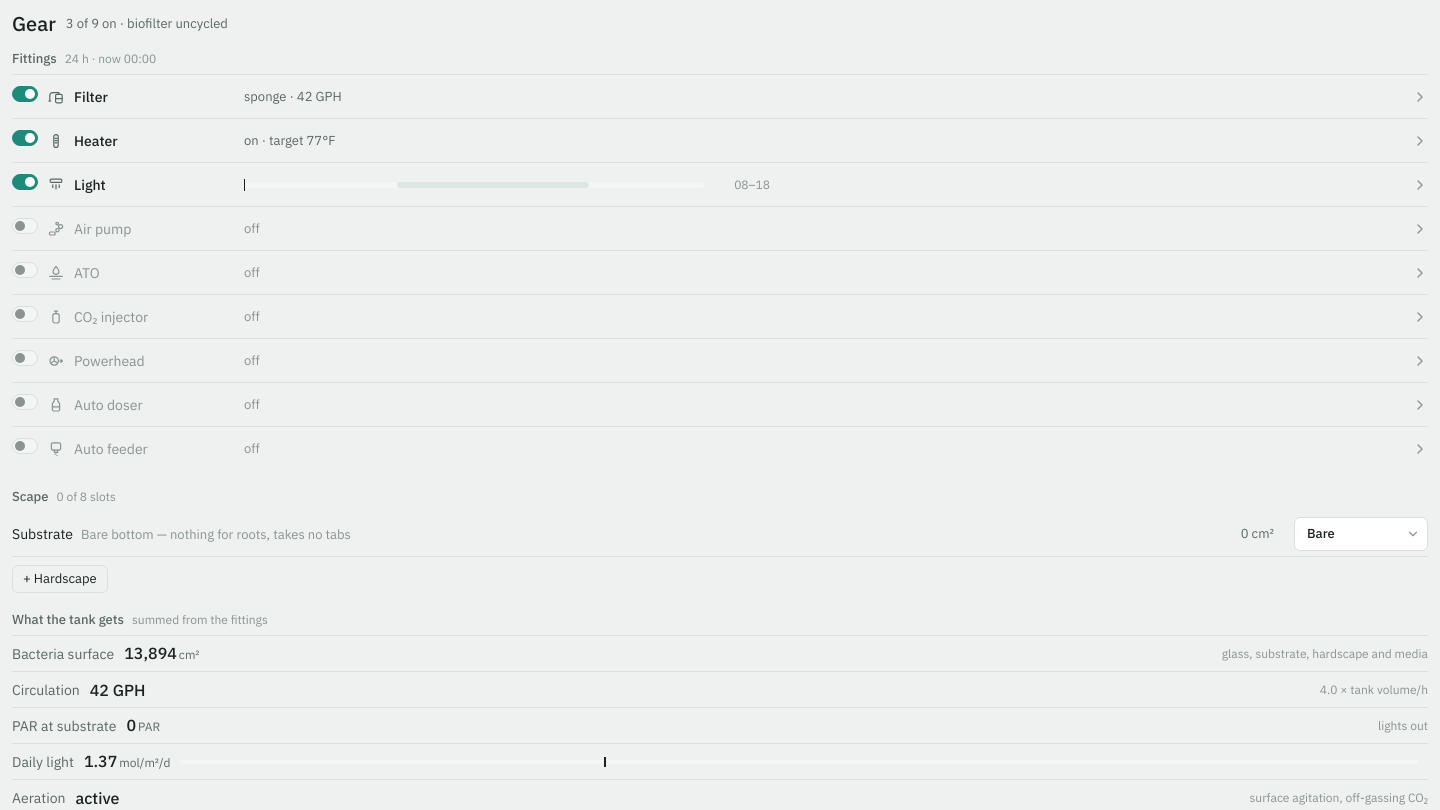
Test: GearSection › opens the day’s light on the reading behind it
Click the button "Daily light 1.37mol/m²/d" at (720, 761), box [12,743,1428,779]
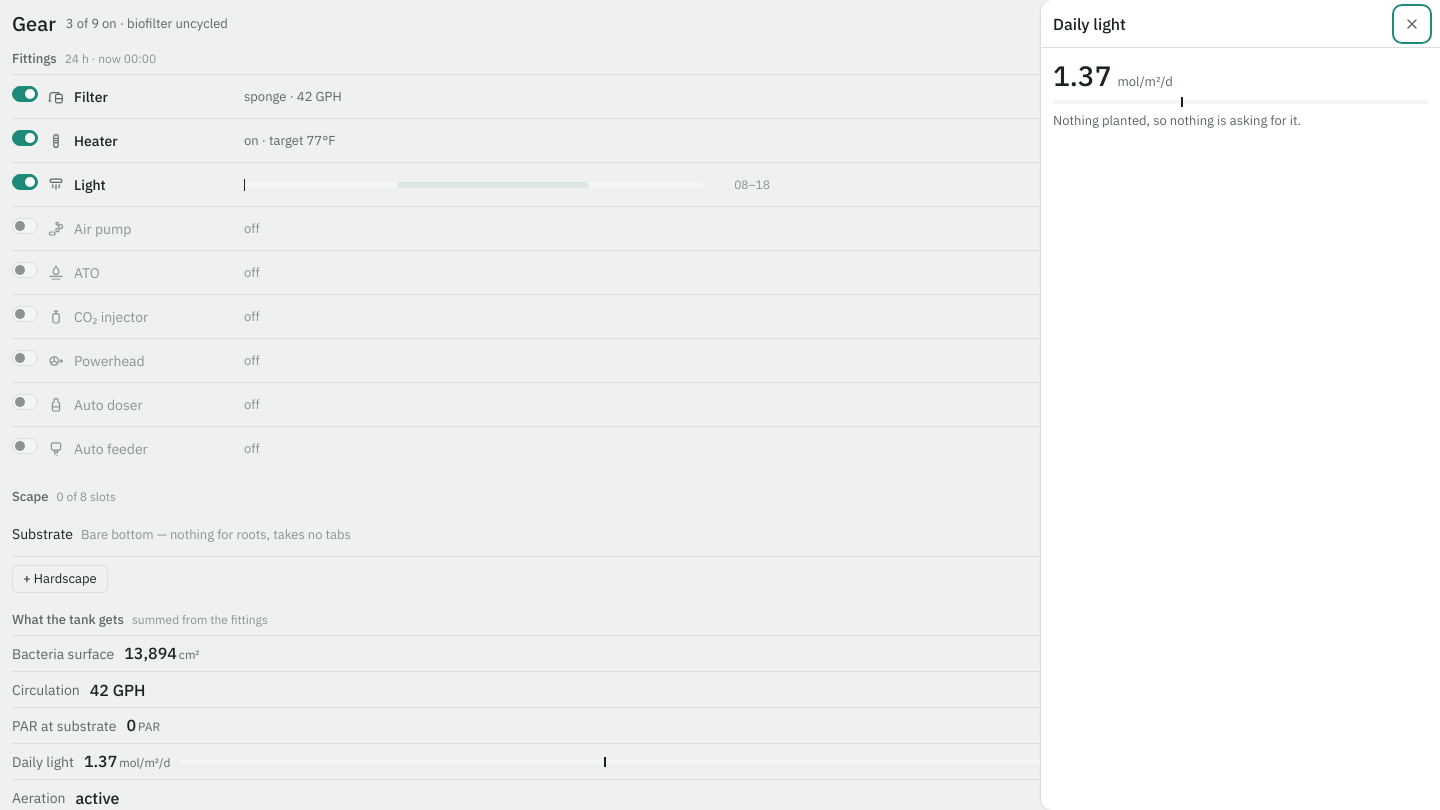
expect the text "Nothing planted, so nothing is asking for it." is shown: met, box [1053,112,1301,129]
